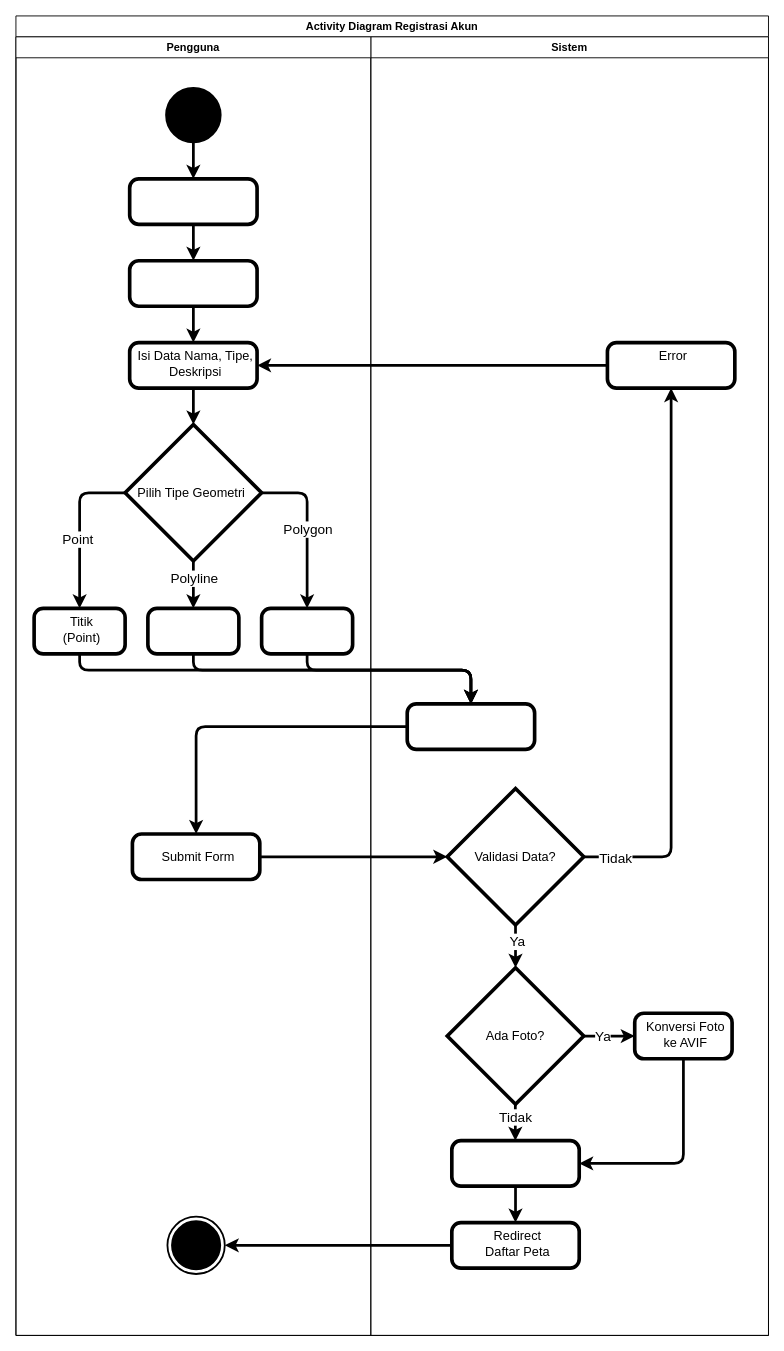
The diagram is 784 pixels wide and 1351 high, and some of its shapes have lost their labels. The shapes that lost their labels are listed below. From the top down, each one's centre as x and y in pixels, then its label:
[193,201]: Akses Menu Kelola Peta
[193,283]: Klik Tambah Marker
[193,630]: Jalur (Polyline)
[307,630]: Area (Polygon)
[470,726]: Leaflet Generate GeoJSON
[515,1163]: Simpan DB map_markers
